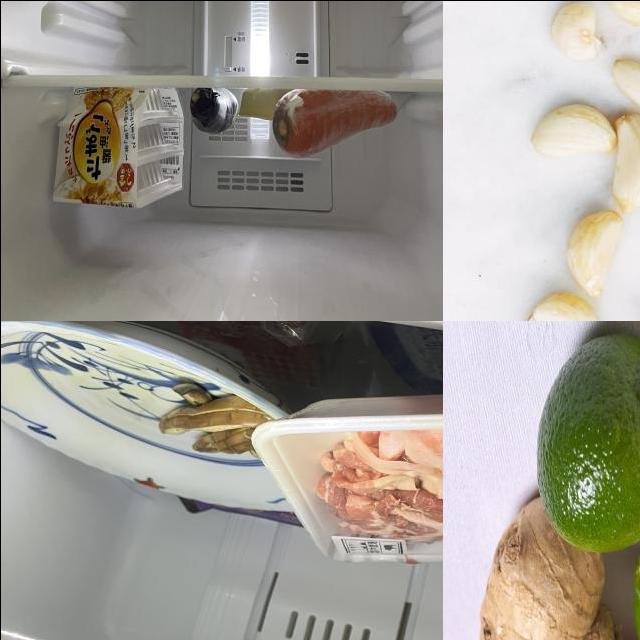carrot: (271, 94, 397, 158)
eggplant: (187, 82, 236, 137)
garlic: (522, 101, 618, 158), (566, 204, 622, 296), (547, 1, 608, 62), (610, 113, 640, 208), (517, 291, 600, 321), (613, 56, 640, 122)
